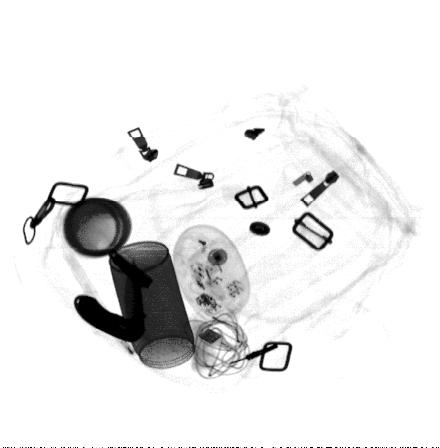Knife: (73, 255, 147, 344)
